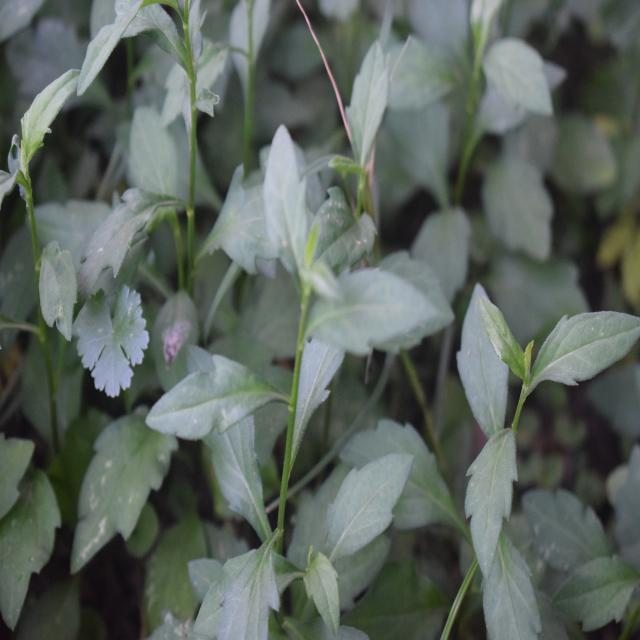Indian aster: (170, 136, 403, 599), (419, 269, 621, 623)
